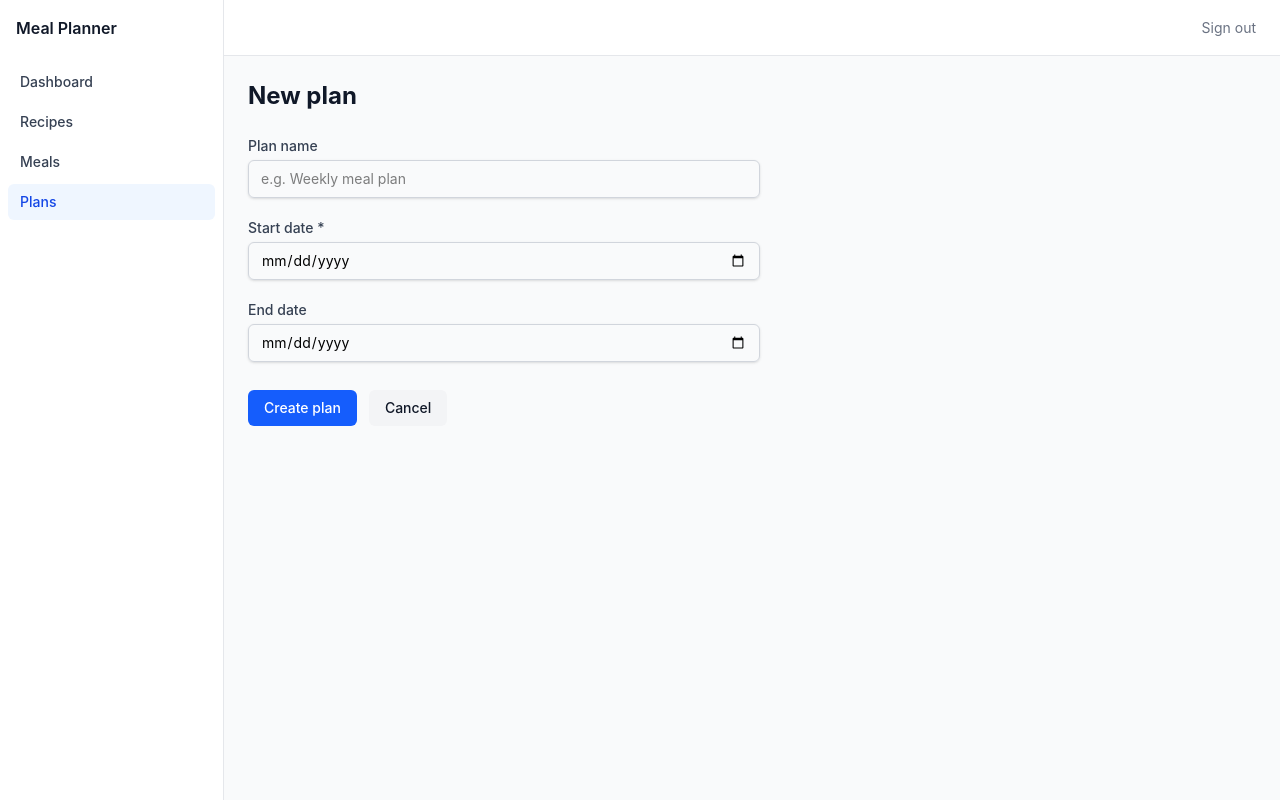
Test: PlanFormPage (create) › creates plan and navigates away
Expected: the heading "New plan" is shown, [248,80,357,112]
Type "2026-06-01" into the date field labelled "Start date *" at (504, 261), box [248,242,760,280]
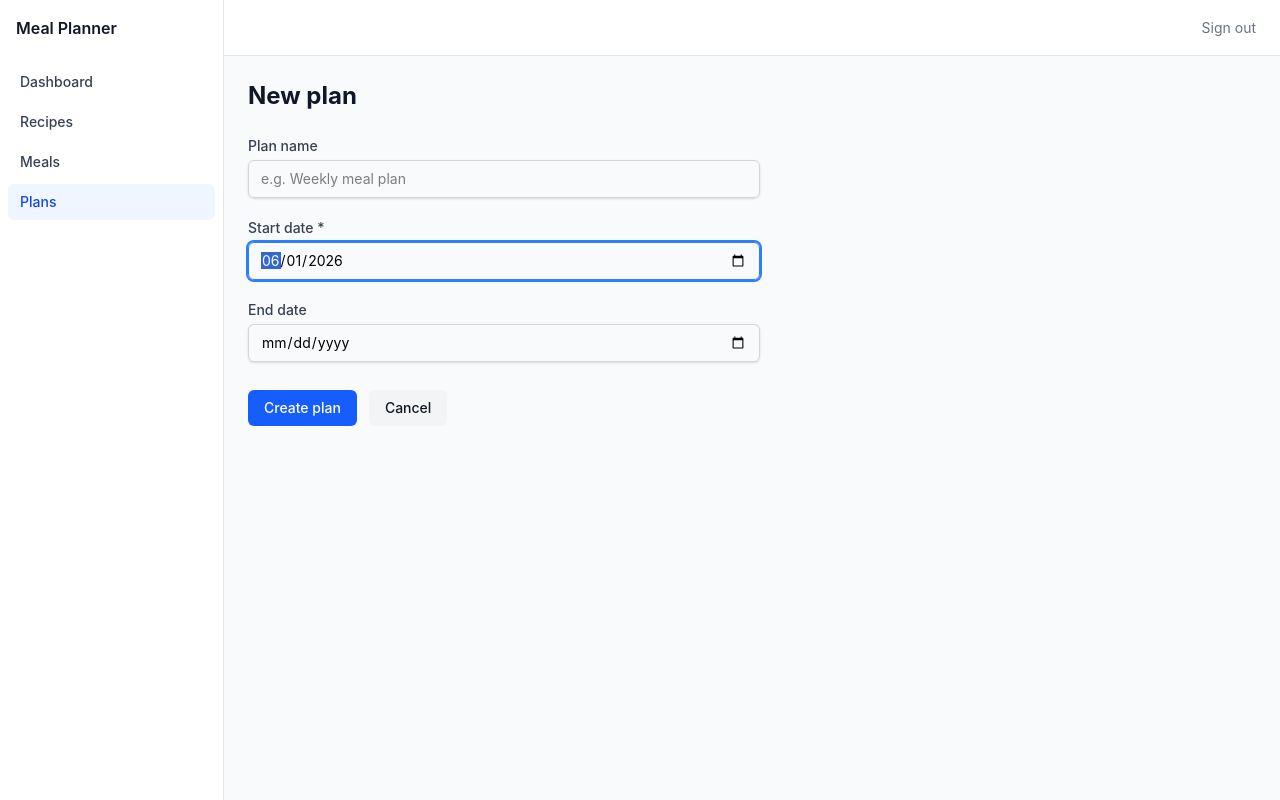
Click the button "Create plan" at (302, 408), box [248,390,357,426]
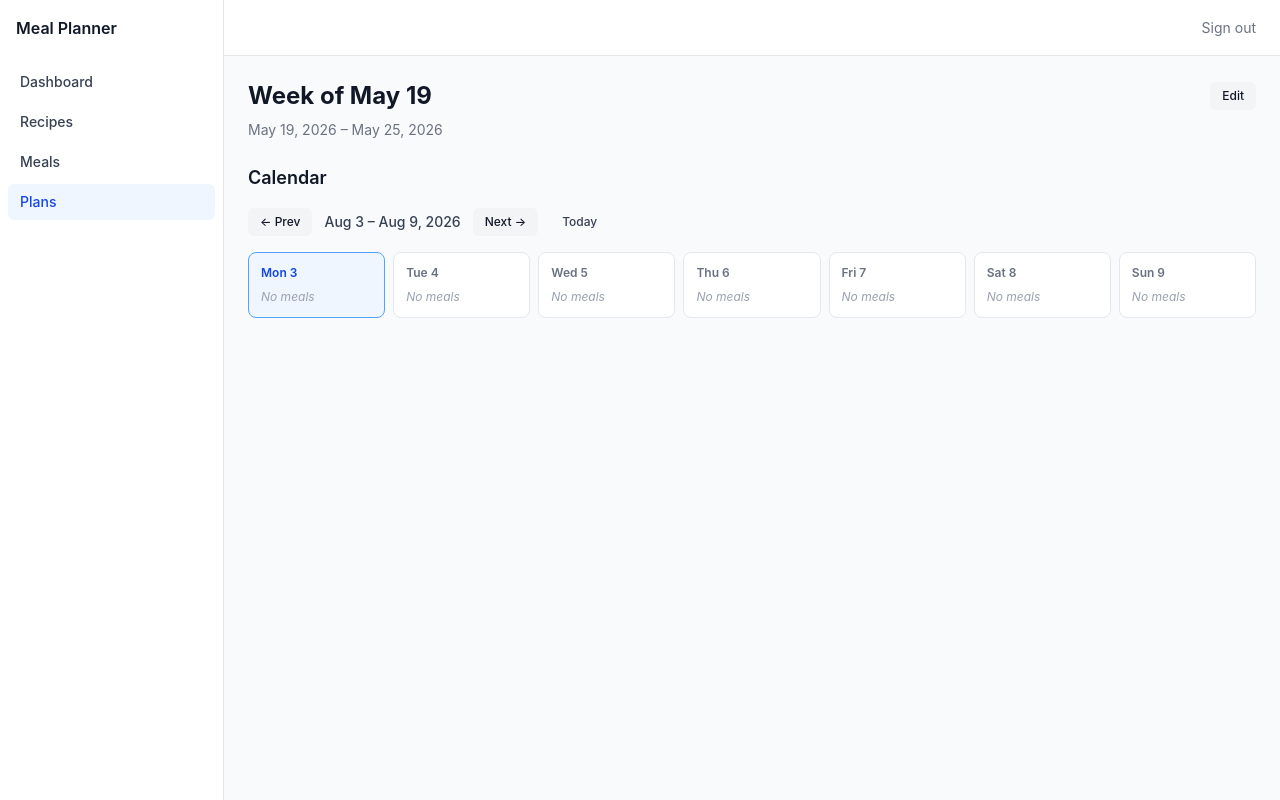
Expected: the heading "New plan" is gone
